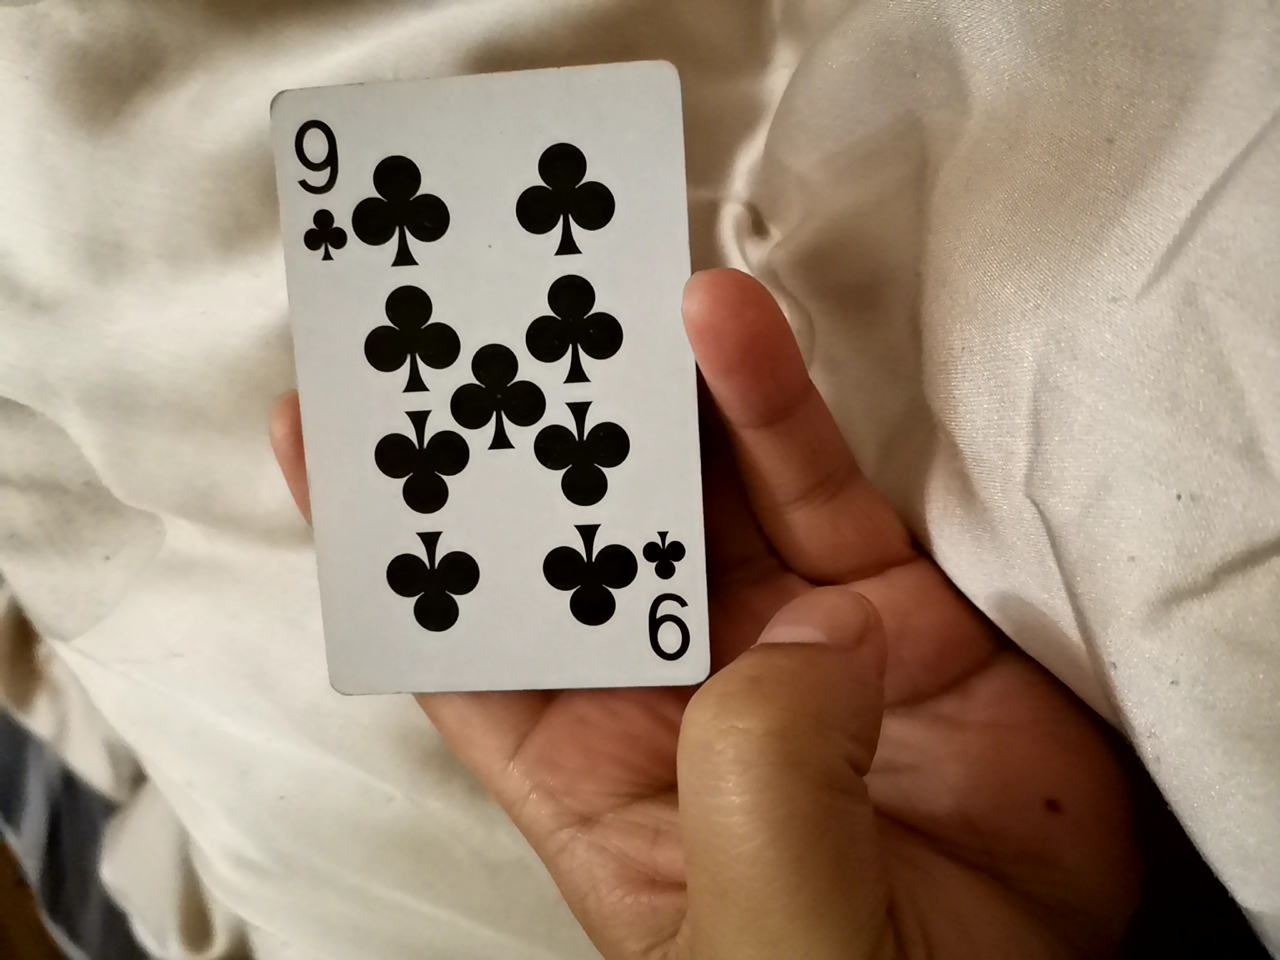mh 9: (264, 57, 710, 700)
